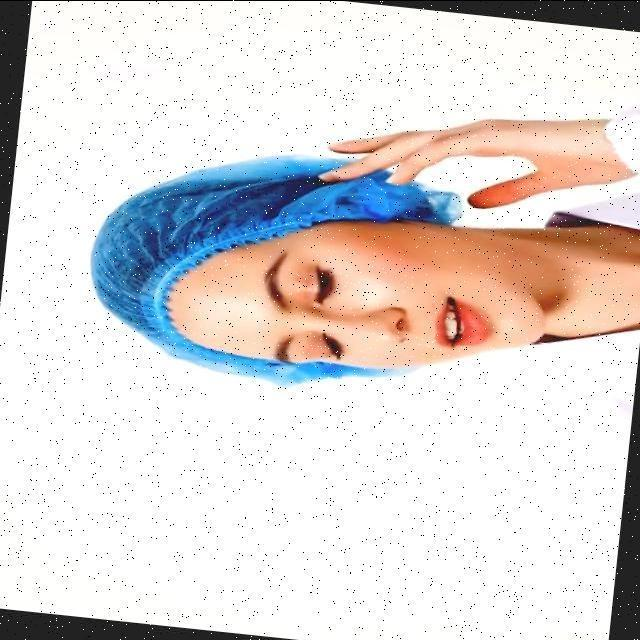gloves: (92, 147, 211, 375)
no_apron: (310, 116, 639, 210)
no_hairnet: (388, 253, 528, 371)
